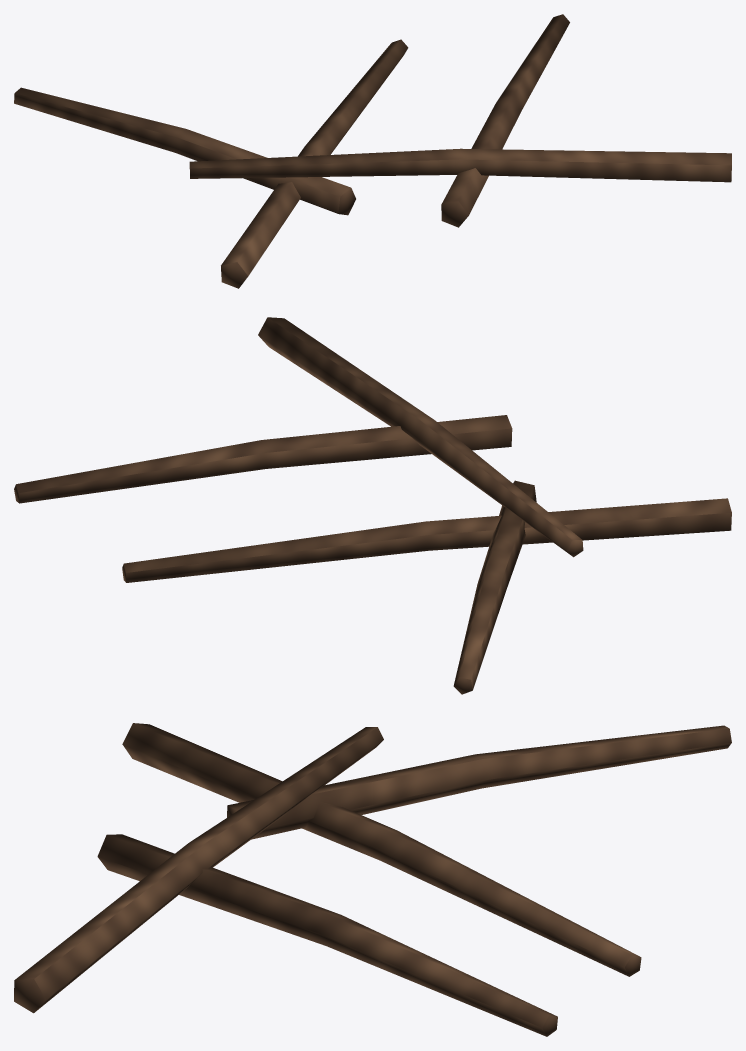
The model's file is Prop_Sticks.fbx.
3 renders of one model, top to bottom at view 1: azimuth 30°, elevation 25°; view 2: azimuth 150°, elevation 25°; view 3: azimuth 270°, elevation 25°, orthographic. The views are drawn at different scales.
Parts seen in each view (by area): view 1: Prop_Sticks.001; view 2: Prop_Sticks.001; view 3: Prop_Sticks.001.
Part boxes in pixels (<box>): Prop_Sticks.001: <box>14,14,731,288</box>; Prop_Sticks.001: <box>14,317,731,694</box>; Prop_Sticks.001: <box>14,723,731,1036</box>.
Bounding box in the file's own units: 0.7374 × 0.0815 × 0.706.
